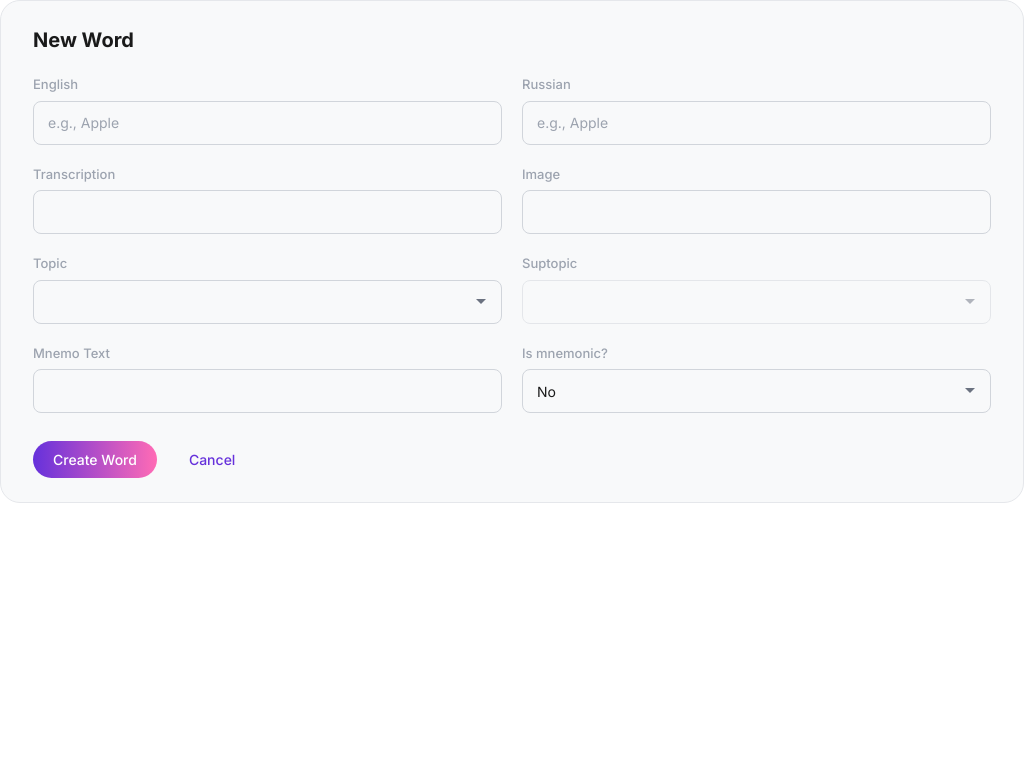
Test case: AdminWordForm › typing in fields updates them and clears the corresponding error
# Trigger validation errors first
Click the button "Create Word" at (95, 460), box [33, 441, 157, 478]
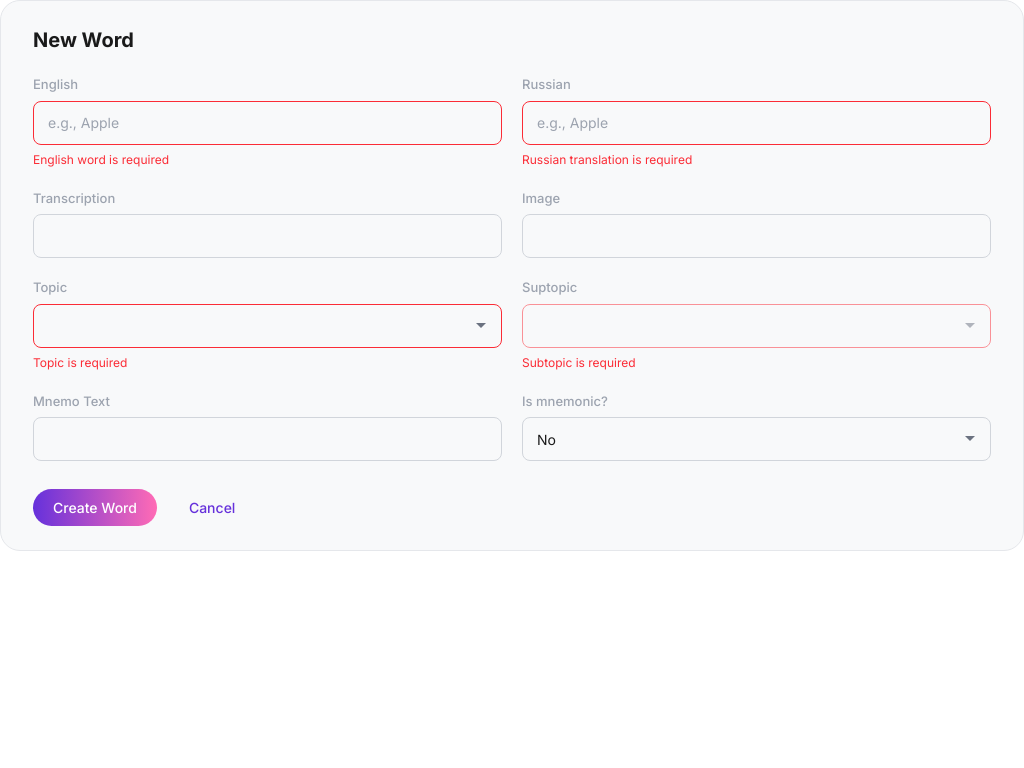
Check: the text "English word is required" is shown, box [33, 152, 169, 166]
# Now type — that error clears
Type "apple" into the field labelled "English" at (268, 122), box [33, 100, 502, 144]
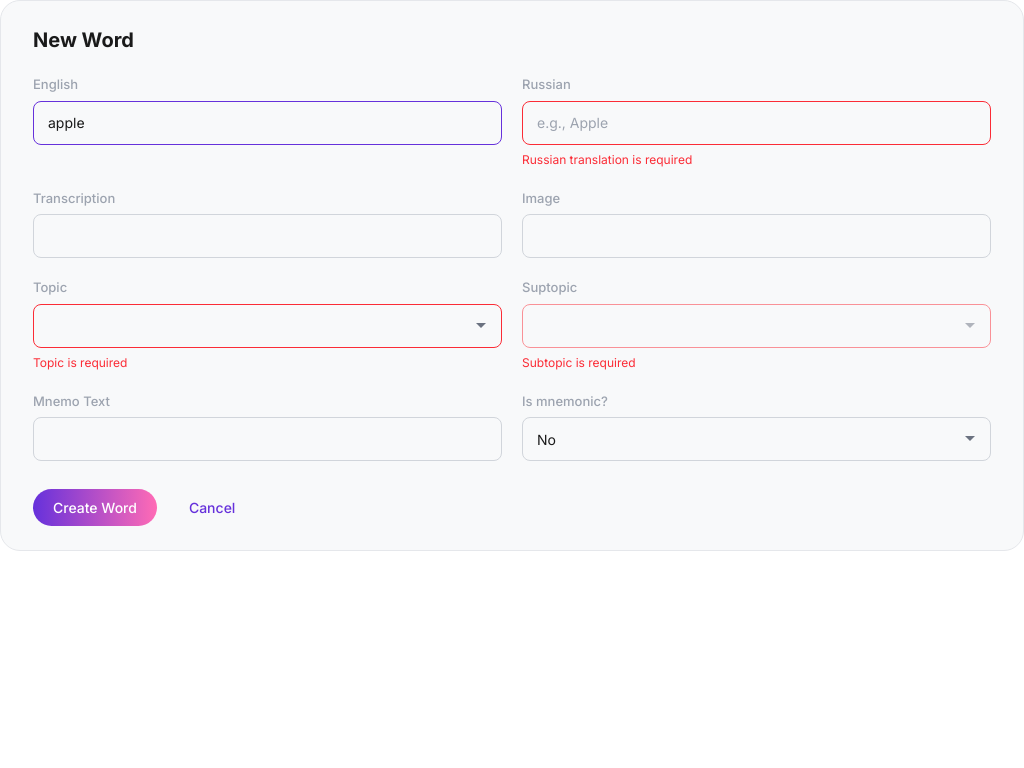
Check: the text "English word is required" is gone
Type "яблоко" into the field labelled "Russian" at (756, 122), box [522, 100, 991, 144]
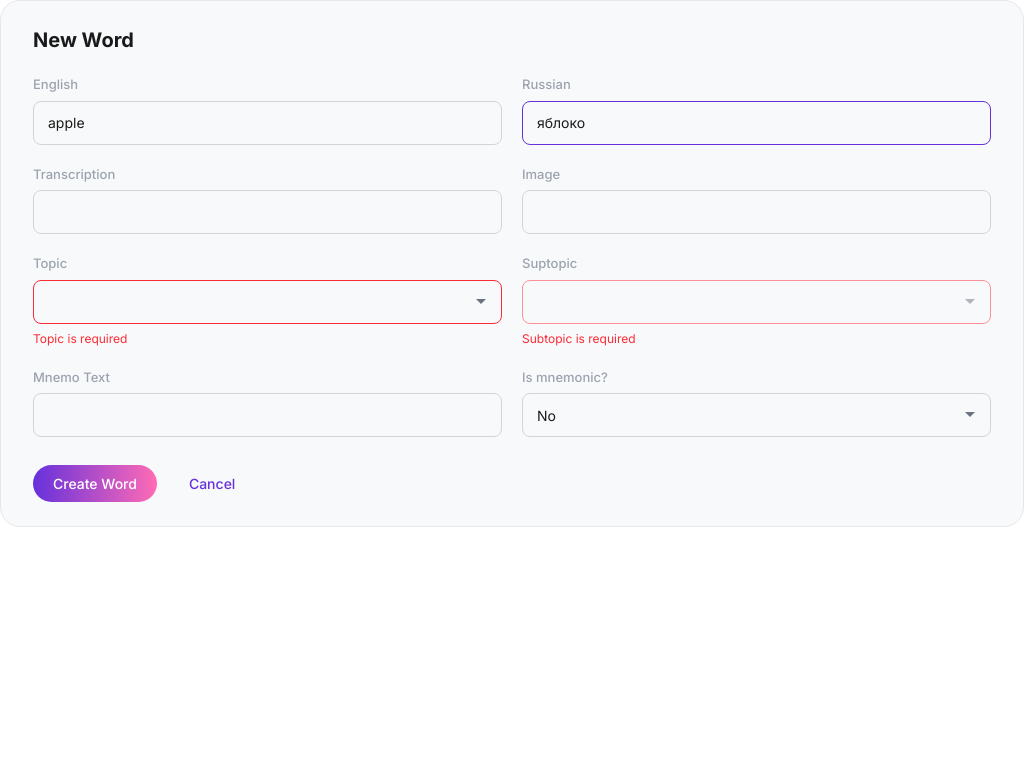
Check: the text "Russian translation is required" is gone
